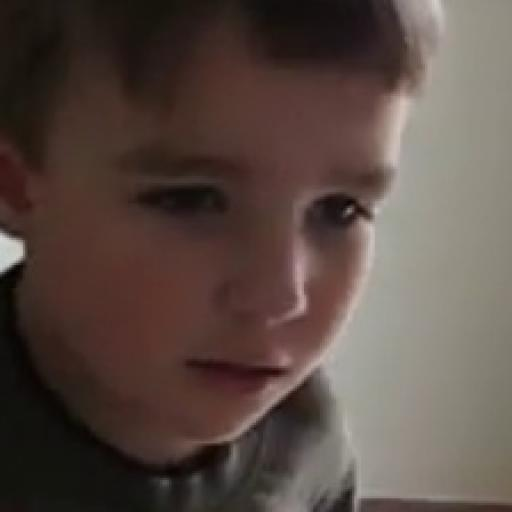Autism: (49, 8, 512, 502)
